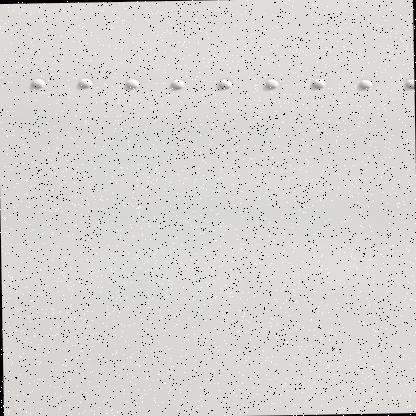Nocrack: (5, 15, 410, 409)
